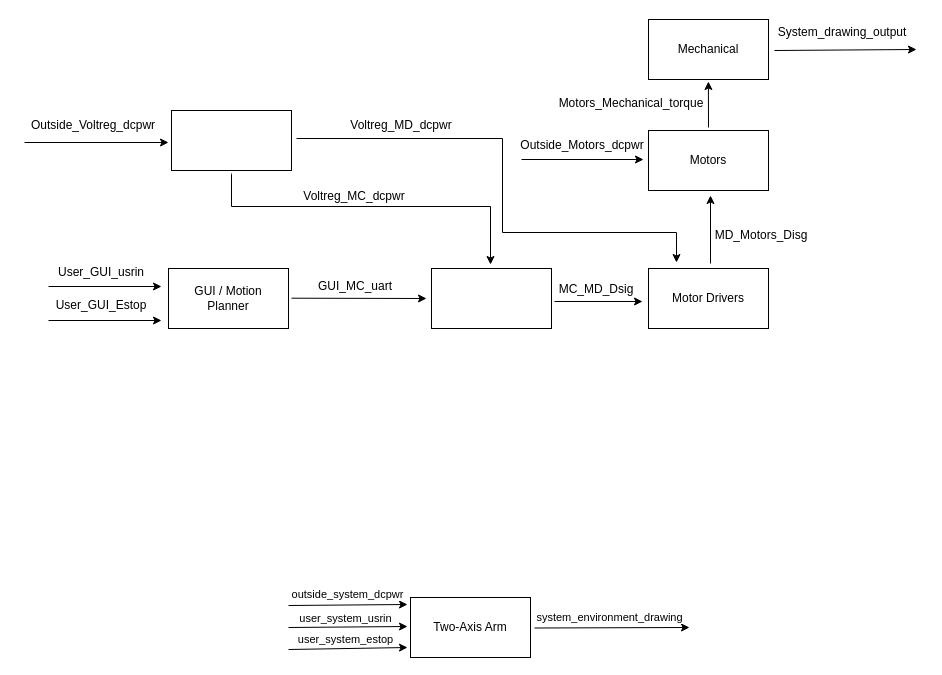
The diagram is 942 pixels wide and 675 high, and some of its shapes have lost their labels. The centre of each missing label's shape, as x and y in pixels:
Micro Controller: the point at 491,298
Voltage Regulator: the point at 231,140
